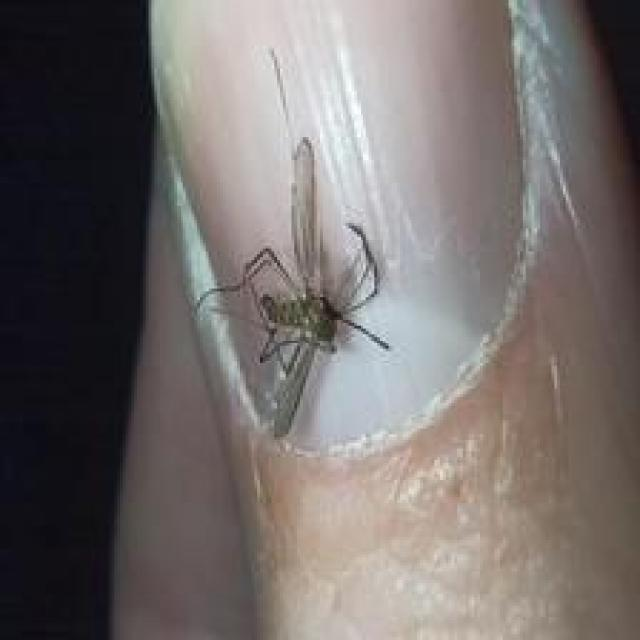Culex: (193, 46, 393, 440)
